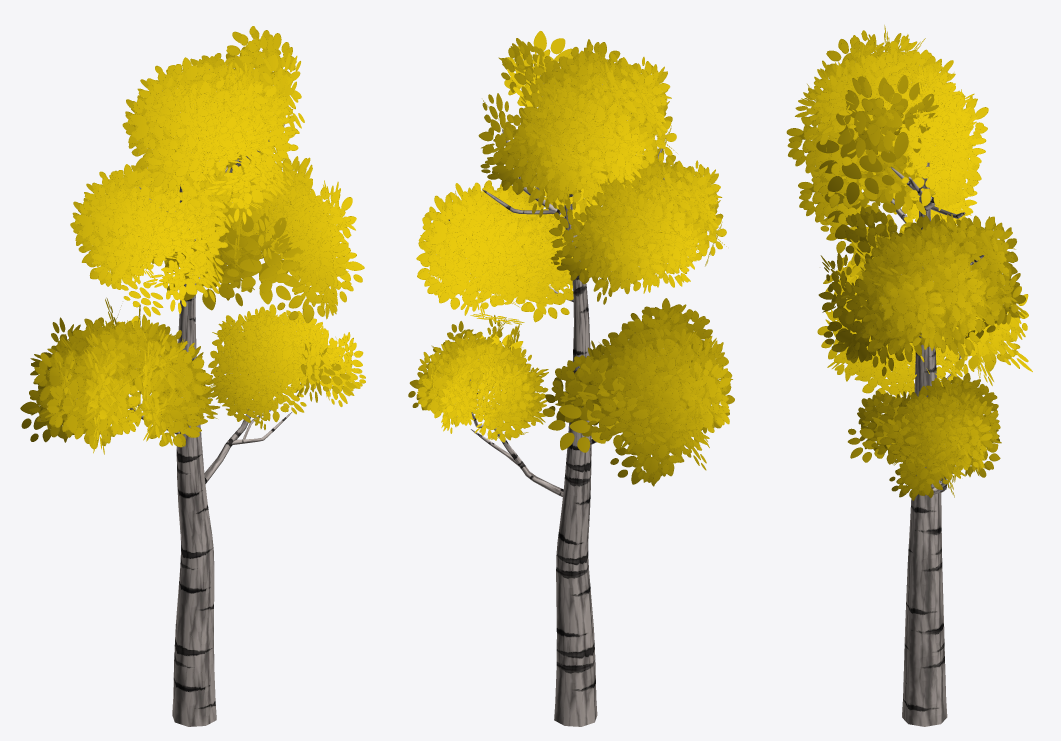
File: birch_tree_1.gltf
3 renders of one model, left to right at view 1: azimuth 30°, elevation 25°; view 2: azimuth 150°, elevation 25°; view 3: azimuth 270°, elevation 25°, orthographic. The views are drawn at different scales.
Visible parts, largest first — view 1: BirchTree_1; view 2: BirchTree_1; view 3: BirchTree_1.
Boxes of the visible parts, left/top/right/bottom form: BirchTree_1: left=20, top=26, right=365, bottom=726; BirchTree_1: left=408, top=31, right=734, bottom=726; BirchTree_1: left=786, top=25, right=1032, bottom=726.
Bounding box in the file's own units: 2.71 × 5.45 × 1.94.
Materials: 2 (2 with a texture image).
